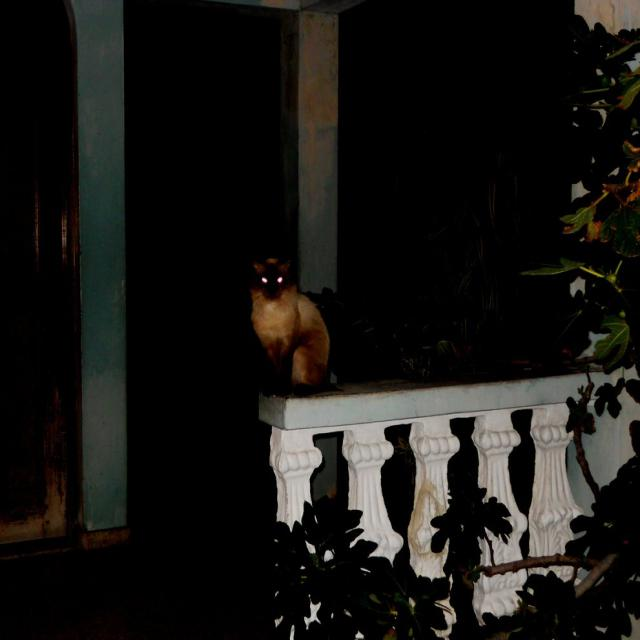Cat: (234, 241, 356, 406)
